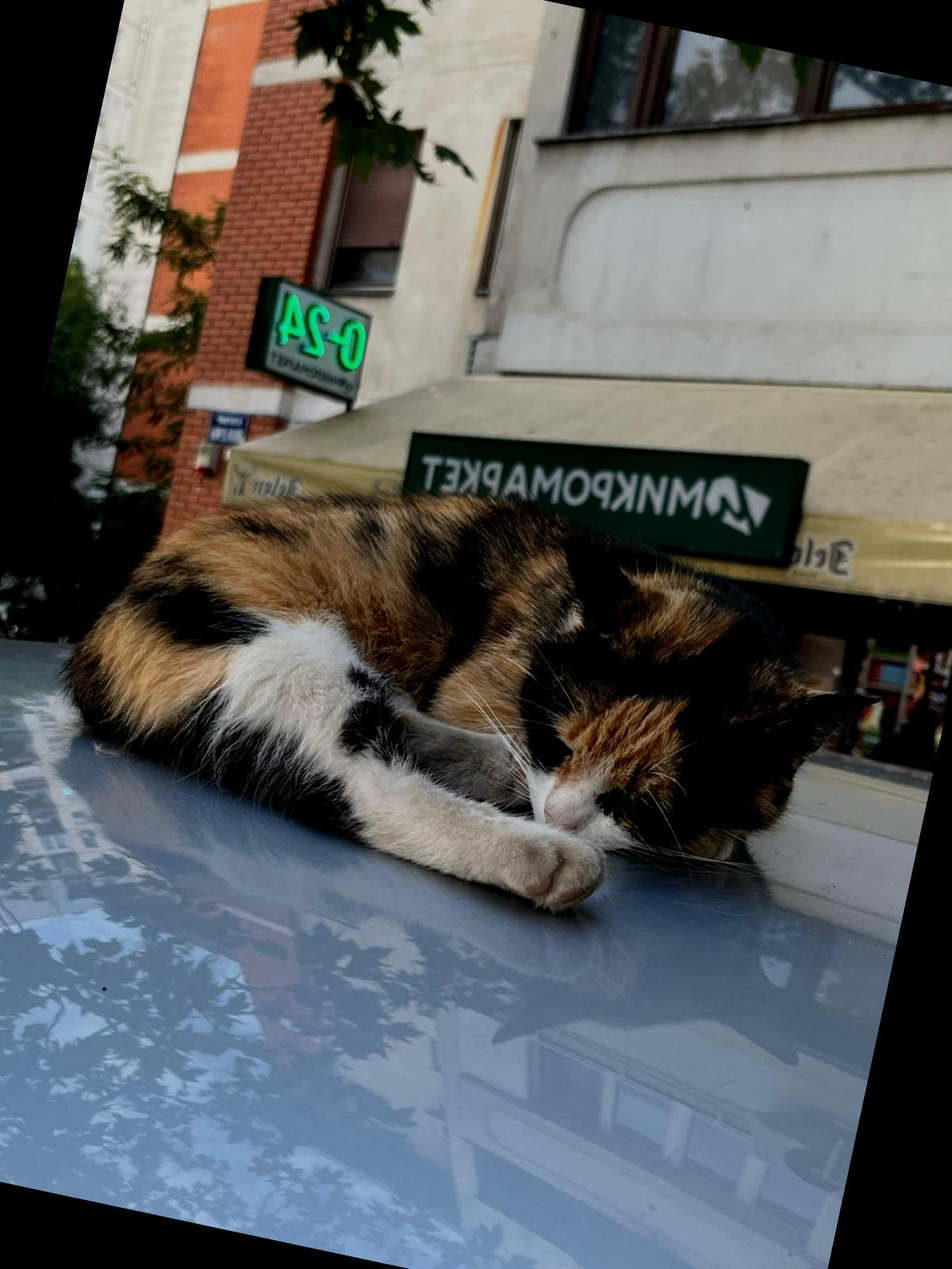macka: (46, 414, 907, 966)
